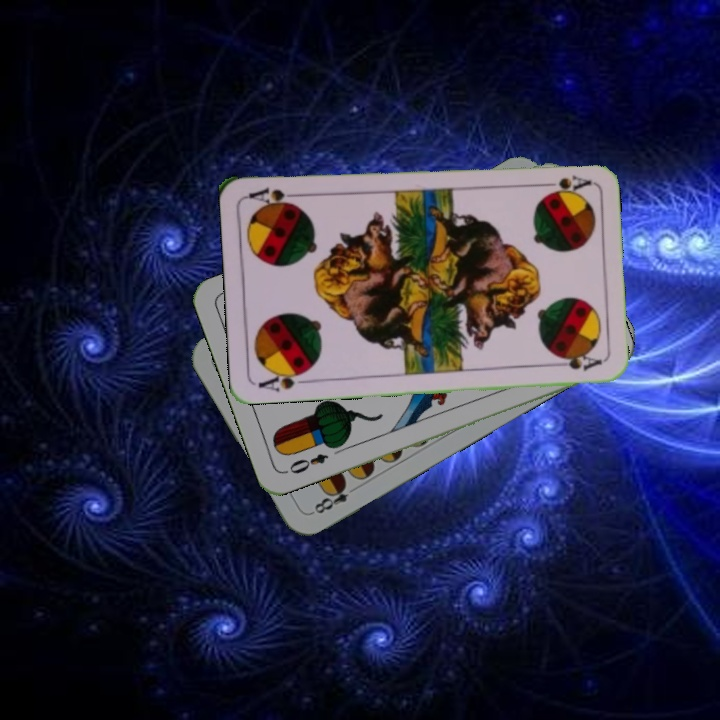E8: (307, 478, 351, 517)
EO: (285, 449, 331, 476)
SA: (254, 365, 313, 394), (534, 171, 593, 192)
